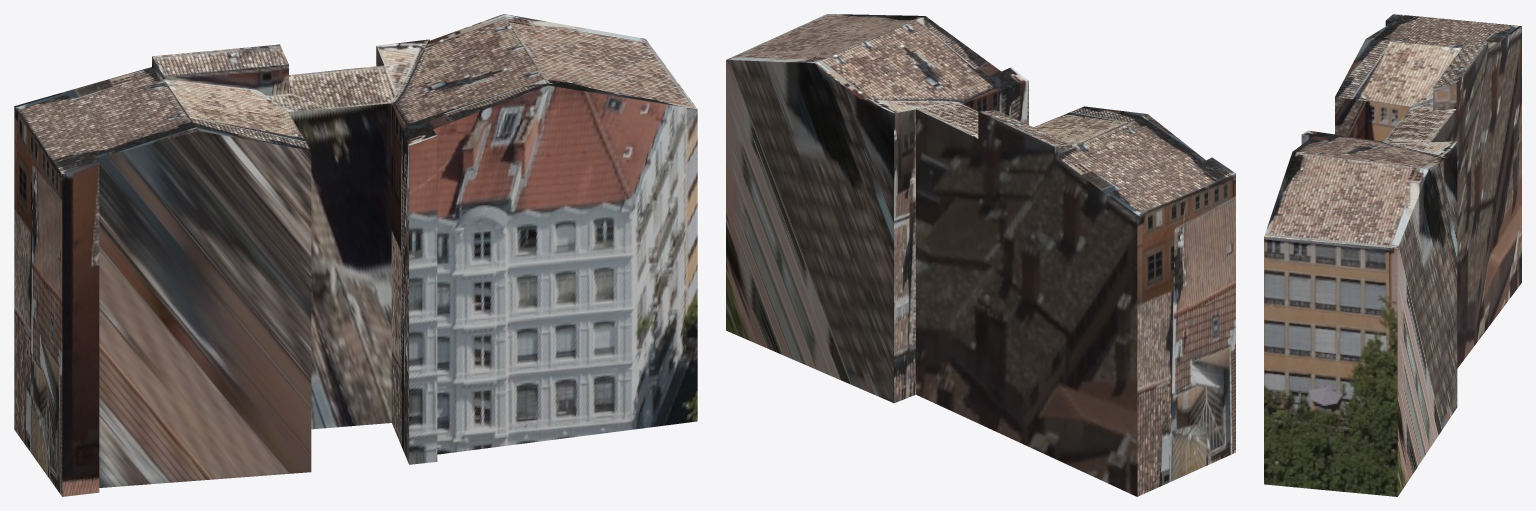
The picture shows the model from 3 angles, left to right: view 1: azimuth 30°, elevation 25°; view 2: azimuth 150°, elevation 25°; view 3: azimuth 270°, elevation 25°; orthographic projection. The views are drawn at different scales.
Parts seen in each view (by area): view 1: Z_UP; view 2: Z_UP; view 3: Z_UP.
Part boxes in pixels (bbox=[...]): Z_UP: bbox=[14, 14, 697, 496]; Z_UP: bbox=[726, 14, 1235, 496]; Z_UP: bbox=[1264, 14, 1521, 496].
Bounding box in the file's own units: 38.98 × 22.9 × 18.71.
2 materials, 1 textured.
